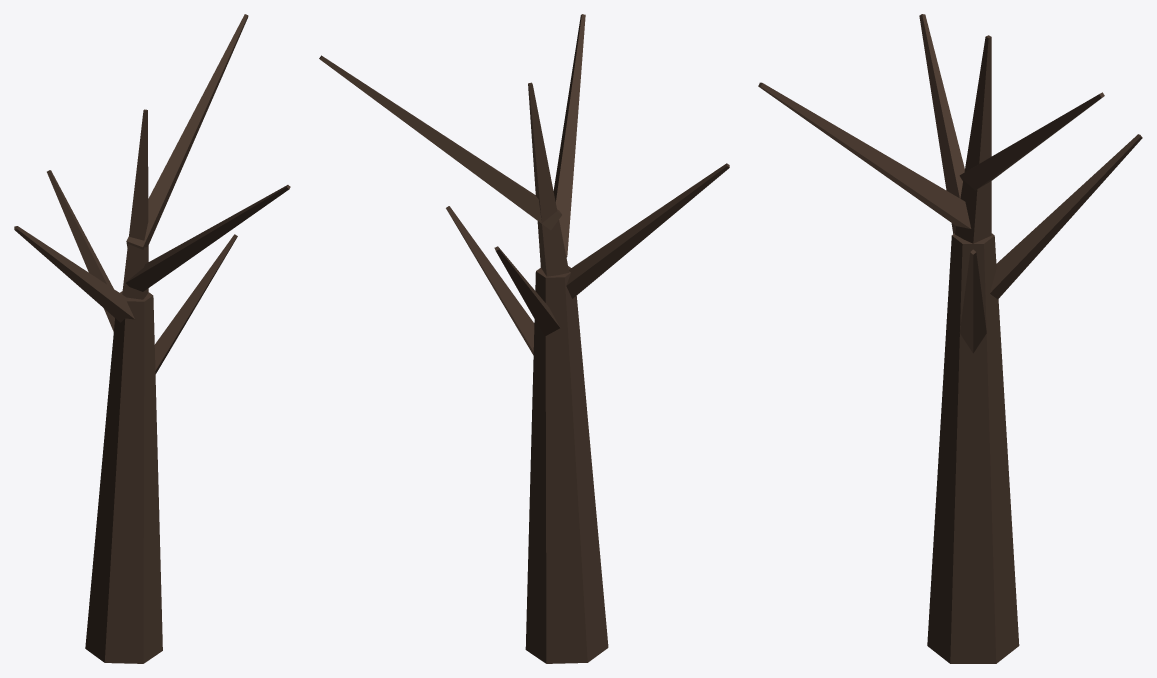
The model's file is a2f_dead_tree.glb.
The picture shows the model from 3 angles, left to right: view 1: azimuth 30°, elevation 25°; view 2: azimuth 150°, elevation 25°; view 3: azimuth 270°, elevation 25°; orthographic projection. The views are drawn at different scales.
Visible parts, largest first — view 1: a2f_dead_tree; view 2: a2f_dead_tree; view 3: a2f_dead_tree.
Part boxes in pixels (x1,y1,x2,y2): a2f_dead_tree: [14, 14, 290, 663]; a2f_dead_tree: [319, 14, 729, 663]; a2f_dead_tree: [758, 14, 1142, 663].
Size of the model in its own units: 2.76 by 4.72 by 2.51.
